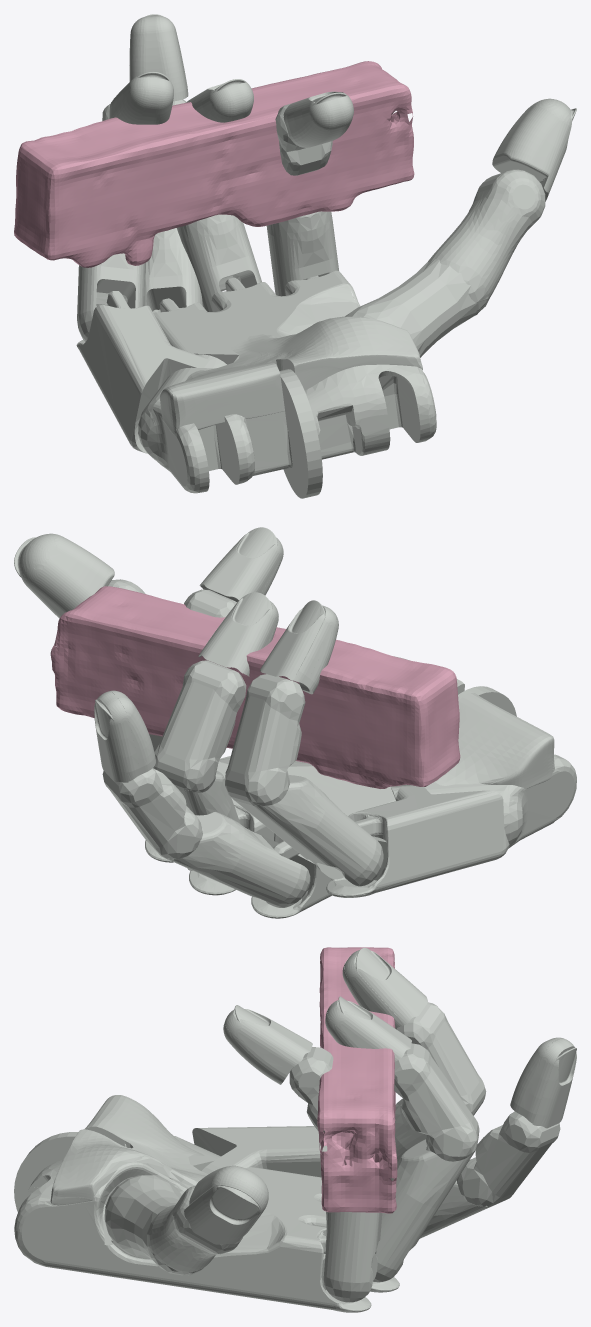
The picture shows the model from 3 angles, top to bottom: view 1: azimuth 30°, elevation 25°; view 2: azimuth 150°, elevation 25°; view 3: azimuth 270°, elevation 25°; orthographic projection. The views are drawn at different scales.
Parts seen in each view (by area): view 1: hand, world; view 2: hand, world; view 3: hand, world.
Part boxes in pixels (x1=…): hand: x1=76, y1=14, x2=576, y2=498; world: x1=14, y1=61, x2=414, y2=267; hand: x1=14, y1=527, x2=576, y2=918; world: x1=50, y1=586, x2=460, y2=788; hand: x1=14, y1=947, x2=576, y2=1312; world: x1=317, y1=947, x2=397, y2=1213.
Bounding box in the file's own units: 0.1692 × 0.104 × 0.1748.
